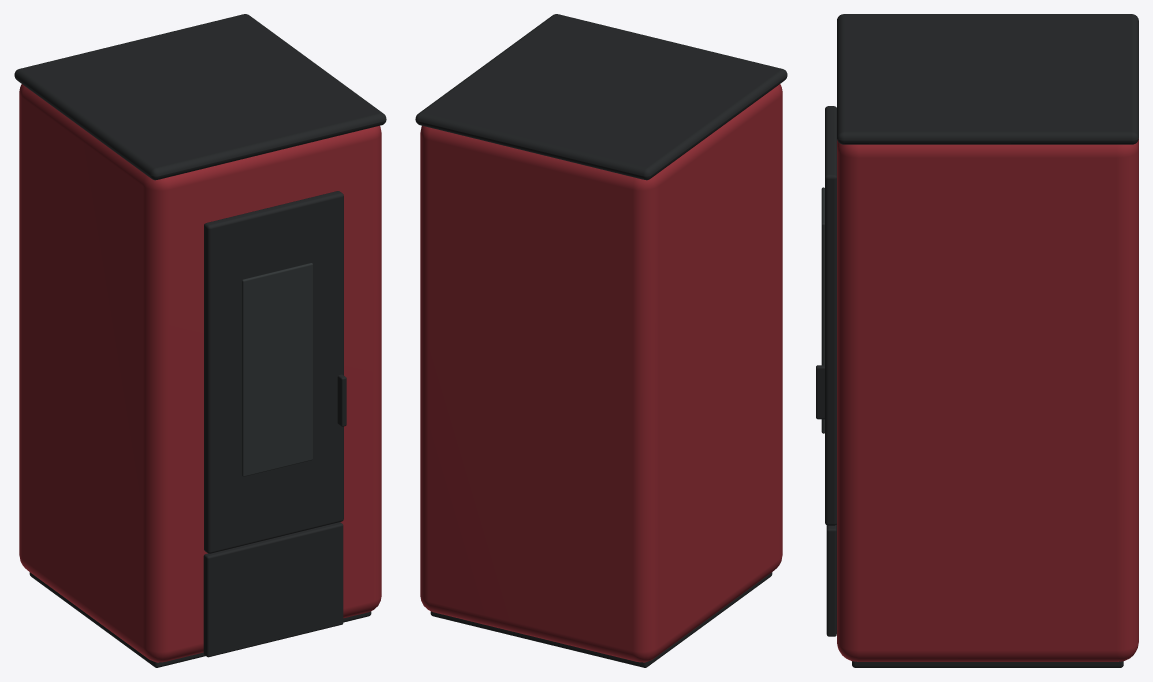
Rendered from ravelli-easy-12-bordeaux.glb.
3 renders of one model, left to right at view 1: azimuth 30°, elevation 25°; view 2: azimuth 150°, elevation 25°; view 3: azimuth 270°, elevation 25°, orthographic. The views are drawn at different scales.
Visible parts, largest first — view 1: Corpo.002, Coperchio.001, Porta, Pannello inferiore, Vetro sportello.003, Zoccolo.002; view 2: Corpo.002, Coperchio.001, Zoccolo.002; view 3: Corpo.002, Coperchio.001, Porta, Zoccolo.002, Pannello inferiore, Vetro sportello.003, Maniglia.
Part boxes in pixels (box(x1,y1,x2,y2)): Corpo.002: box(19, 84, 381, 662); Coperchio.001: box(14, 14, 386, 180); Porta: box(204, 191, 343, 553); Pannello inferiore: box(203, 522, 343, 657); Vetro sportello.003: box(241, 263, 312, 476); Zoccolo.002: box(29, 572, 371, 667); Corpo.002: box(420, 84, 782, 662); Coperchio.001: box(415, 14, 787, 180); Zoccolo.002: box(430, 572, 772, 667); Corpo.002: box(837, 138, 1138, 661); Coperchio.001: box(837, 14, 1138, 144); Porta: box(825, 106, 836, 525); Zoccolo.002: box(852, 661, 1123, 667); Pannello inferiore: box(826, 524, 836, 636); Vetro sportello.003: box(821, 187, 824, 433); Maniglia: box(816, 365, 824, 419).
Size of the model in its own units: 0.525 by 1.08 by 0.5835.
